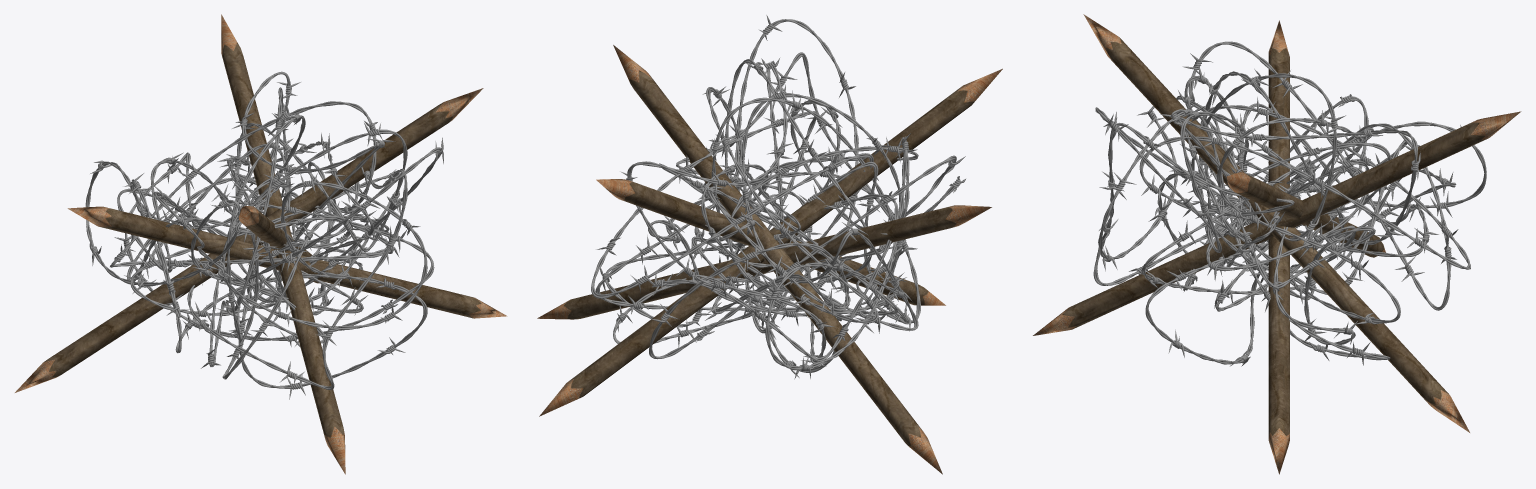
Rendered from Wood.fbx.
3 views of the same model, side by side, from view 1: azimuth 30°, elevation 25°; view 2: azimuth 150°, elevation 25°; view 3: azimuth 270°, elevation 25° (orthographic). The views are drawn at different scales.
Visible parts, largest first — view 1: Wire, Wood; view 2: Wire, Wood; view 3: Wire, Wood.
Boxes of the visible parts, x1,y1,x2,y2 form: Wire: (85,71,443,399); Wood: (15,14,507,474); Wire: (591,15,965,379); Wood: (537,45,1002,474); Wire: (1093,41,1486,366); Wood: (1033,14,1521,474).
Bounding box in the file's own units: 66.99 × 41.23 × 60.61.
Materials: 2 (1 with a texture image).
